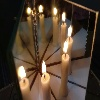fire: (42, 60, 47, 75)
